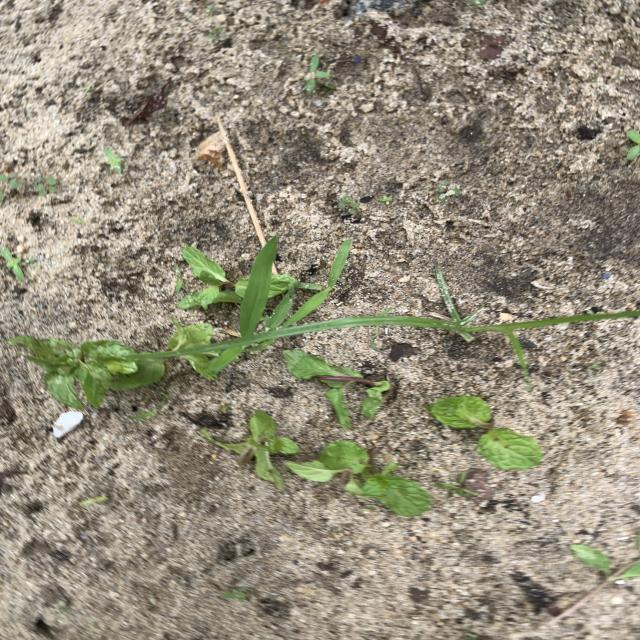crop: (286, 440, 430, 517), (539, 531, 640, 629), (9, 336, 139, 410), (283, 349, 391, 430), (427, 396, 543, 470), (201, 410, 299, 489), (179, 247, 250, 309), (184, 349, 236, 380), (113, 360, 165, 390), (168, 317, 213, 351), (269, 274, 298, 298)
weed: (134, 311, 640, 375), (280, 240, 350, 331), (236, 237, 277, 336), (0, 171, 73, 204), (436, 468, 493, 502), (302, 54, 336, 93), (331, 195, 374, 224), (0, 244, 27, 282), (102, 148, 129, 174), (272, 294, 291, 328), (625, 129, 640, 168), (247, 339, 273, 351), (25, 259, 36, 263)
